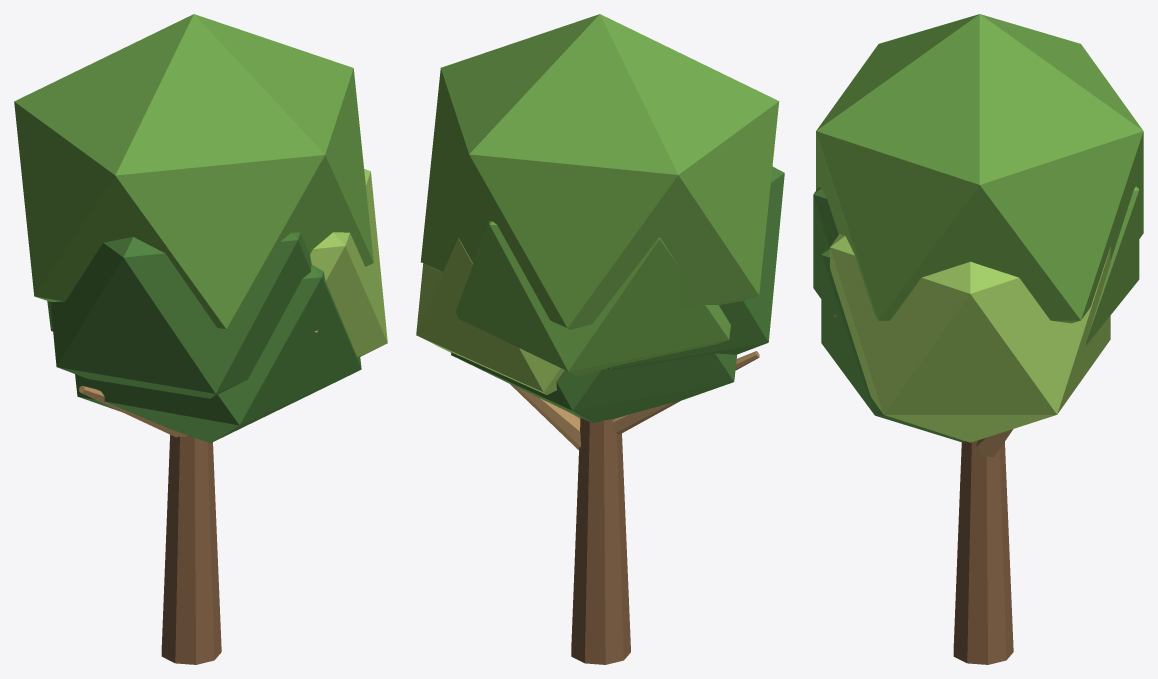
File: SM_Tree_Deciduous.fbx
3 views of the same model, side by side, from view 1: azimuth 30°, elevation 25°; view 2: azimuth 150°, elevation 25°; view 3: azimuth 270°, elevation 25° (orthographic).
Parts seen in each view (by area): view 1: SM_Tree_Deciduous; view 2: SM_Tree_Deciduous; view 3: SM_Tree_Deciduous.
Boxes of the visible parts, bbox=[...] form: SM_Tree_Deciduous: bbox=[14, 14, 387, 664]; SM_Tree_Deciduous: bbox=[416, 14, 784, 664]; SM_Tree_Deciduous: bbox=[813, 14, 1143, 664].
Size of the model in its own units: 4.46 by 8.2 by 3.84.
